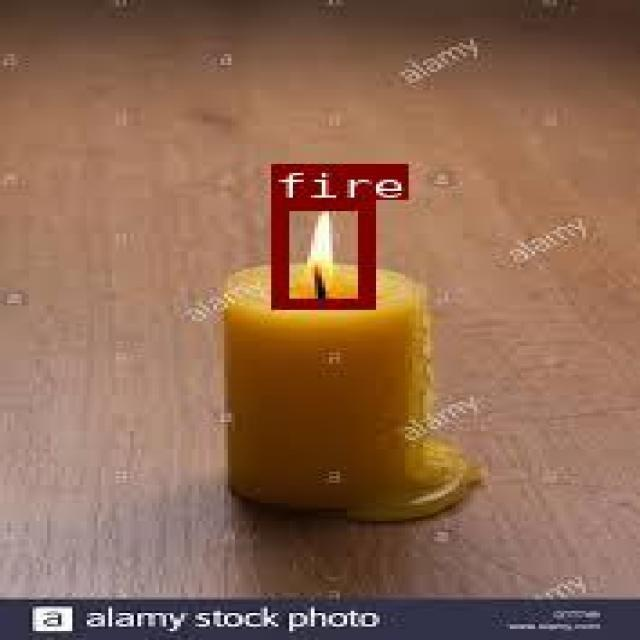fire: (269, 198, 370, 306)
